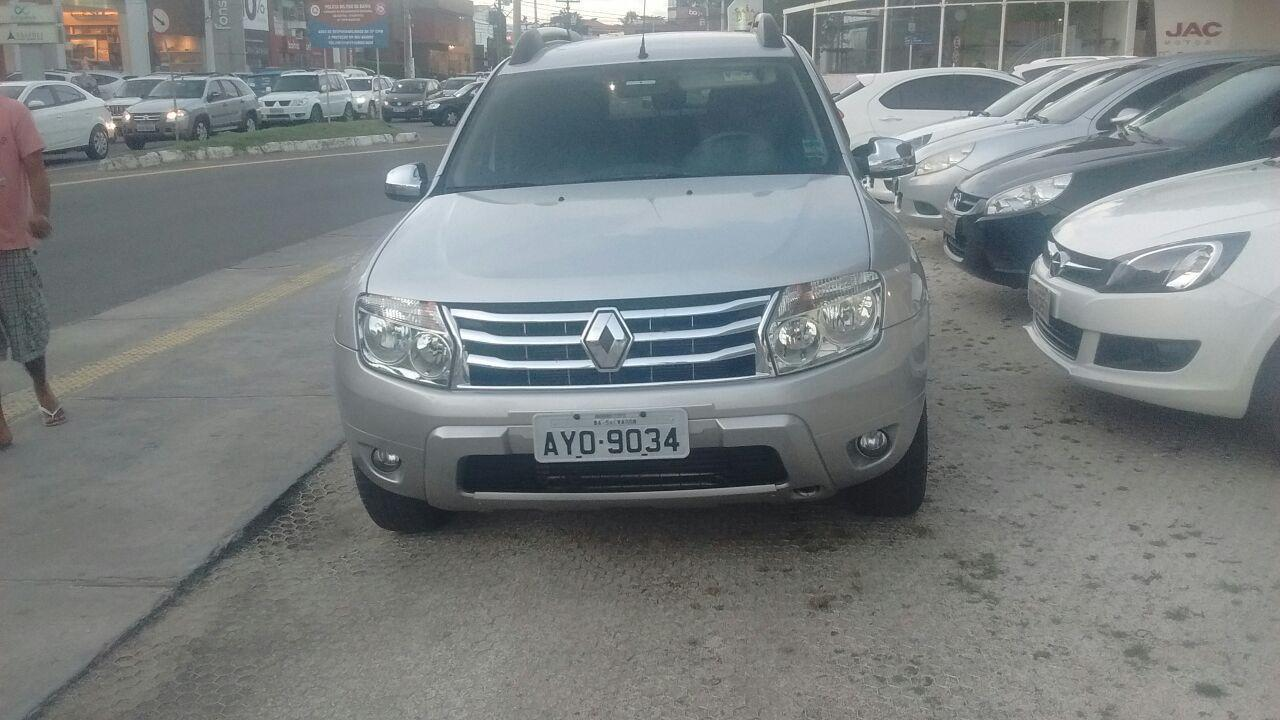placa de veiculo: (504, 383, 718, 494)
